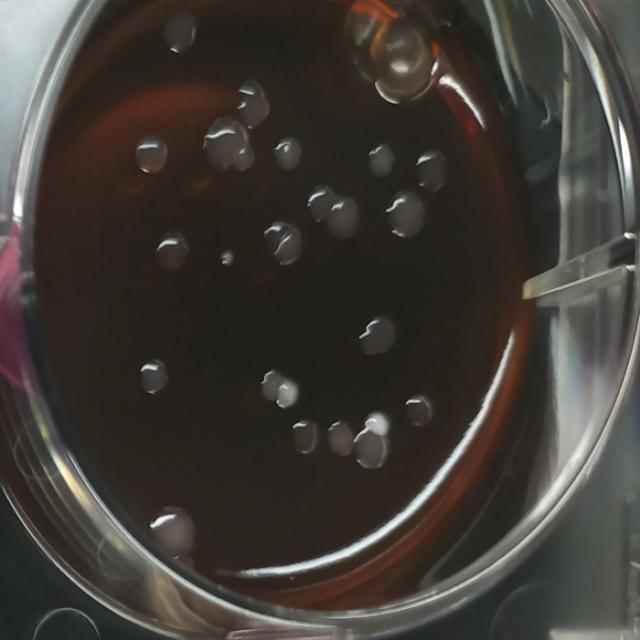Bacillus: (142, 501, 200, 569)
Staphylococcus: (274, 377, 302, 411), (364, 409, 394, 440), (218, 246, 237, 270)
Vagococcus: (363, 139, 399, 184), (271, 131, 307, 175), (326, 417, 358, 461), (258, 362, 286, 404), (231, 141, 258, 176)
Vibrio: (152, 227, 194, 277), (133, 130, 171, 178)
